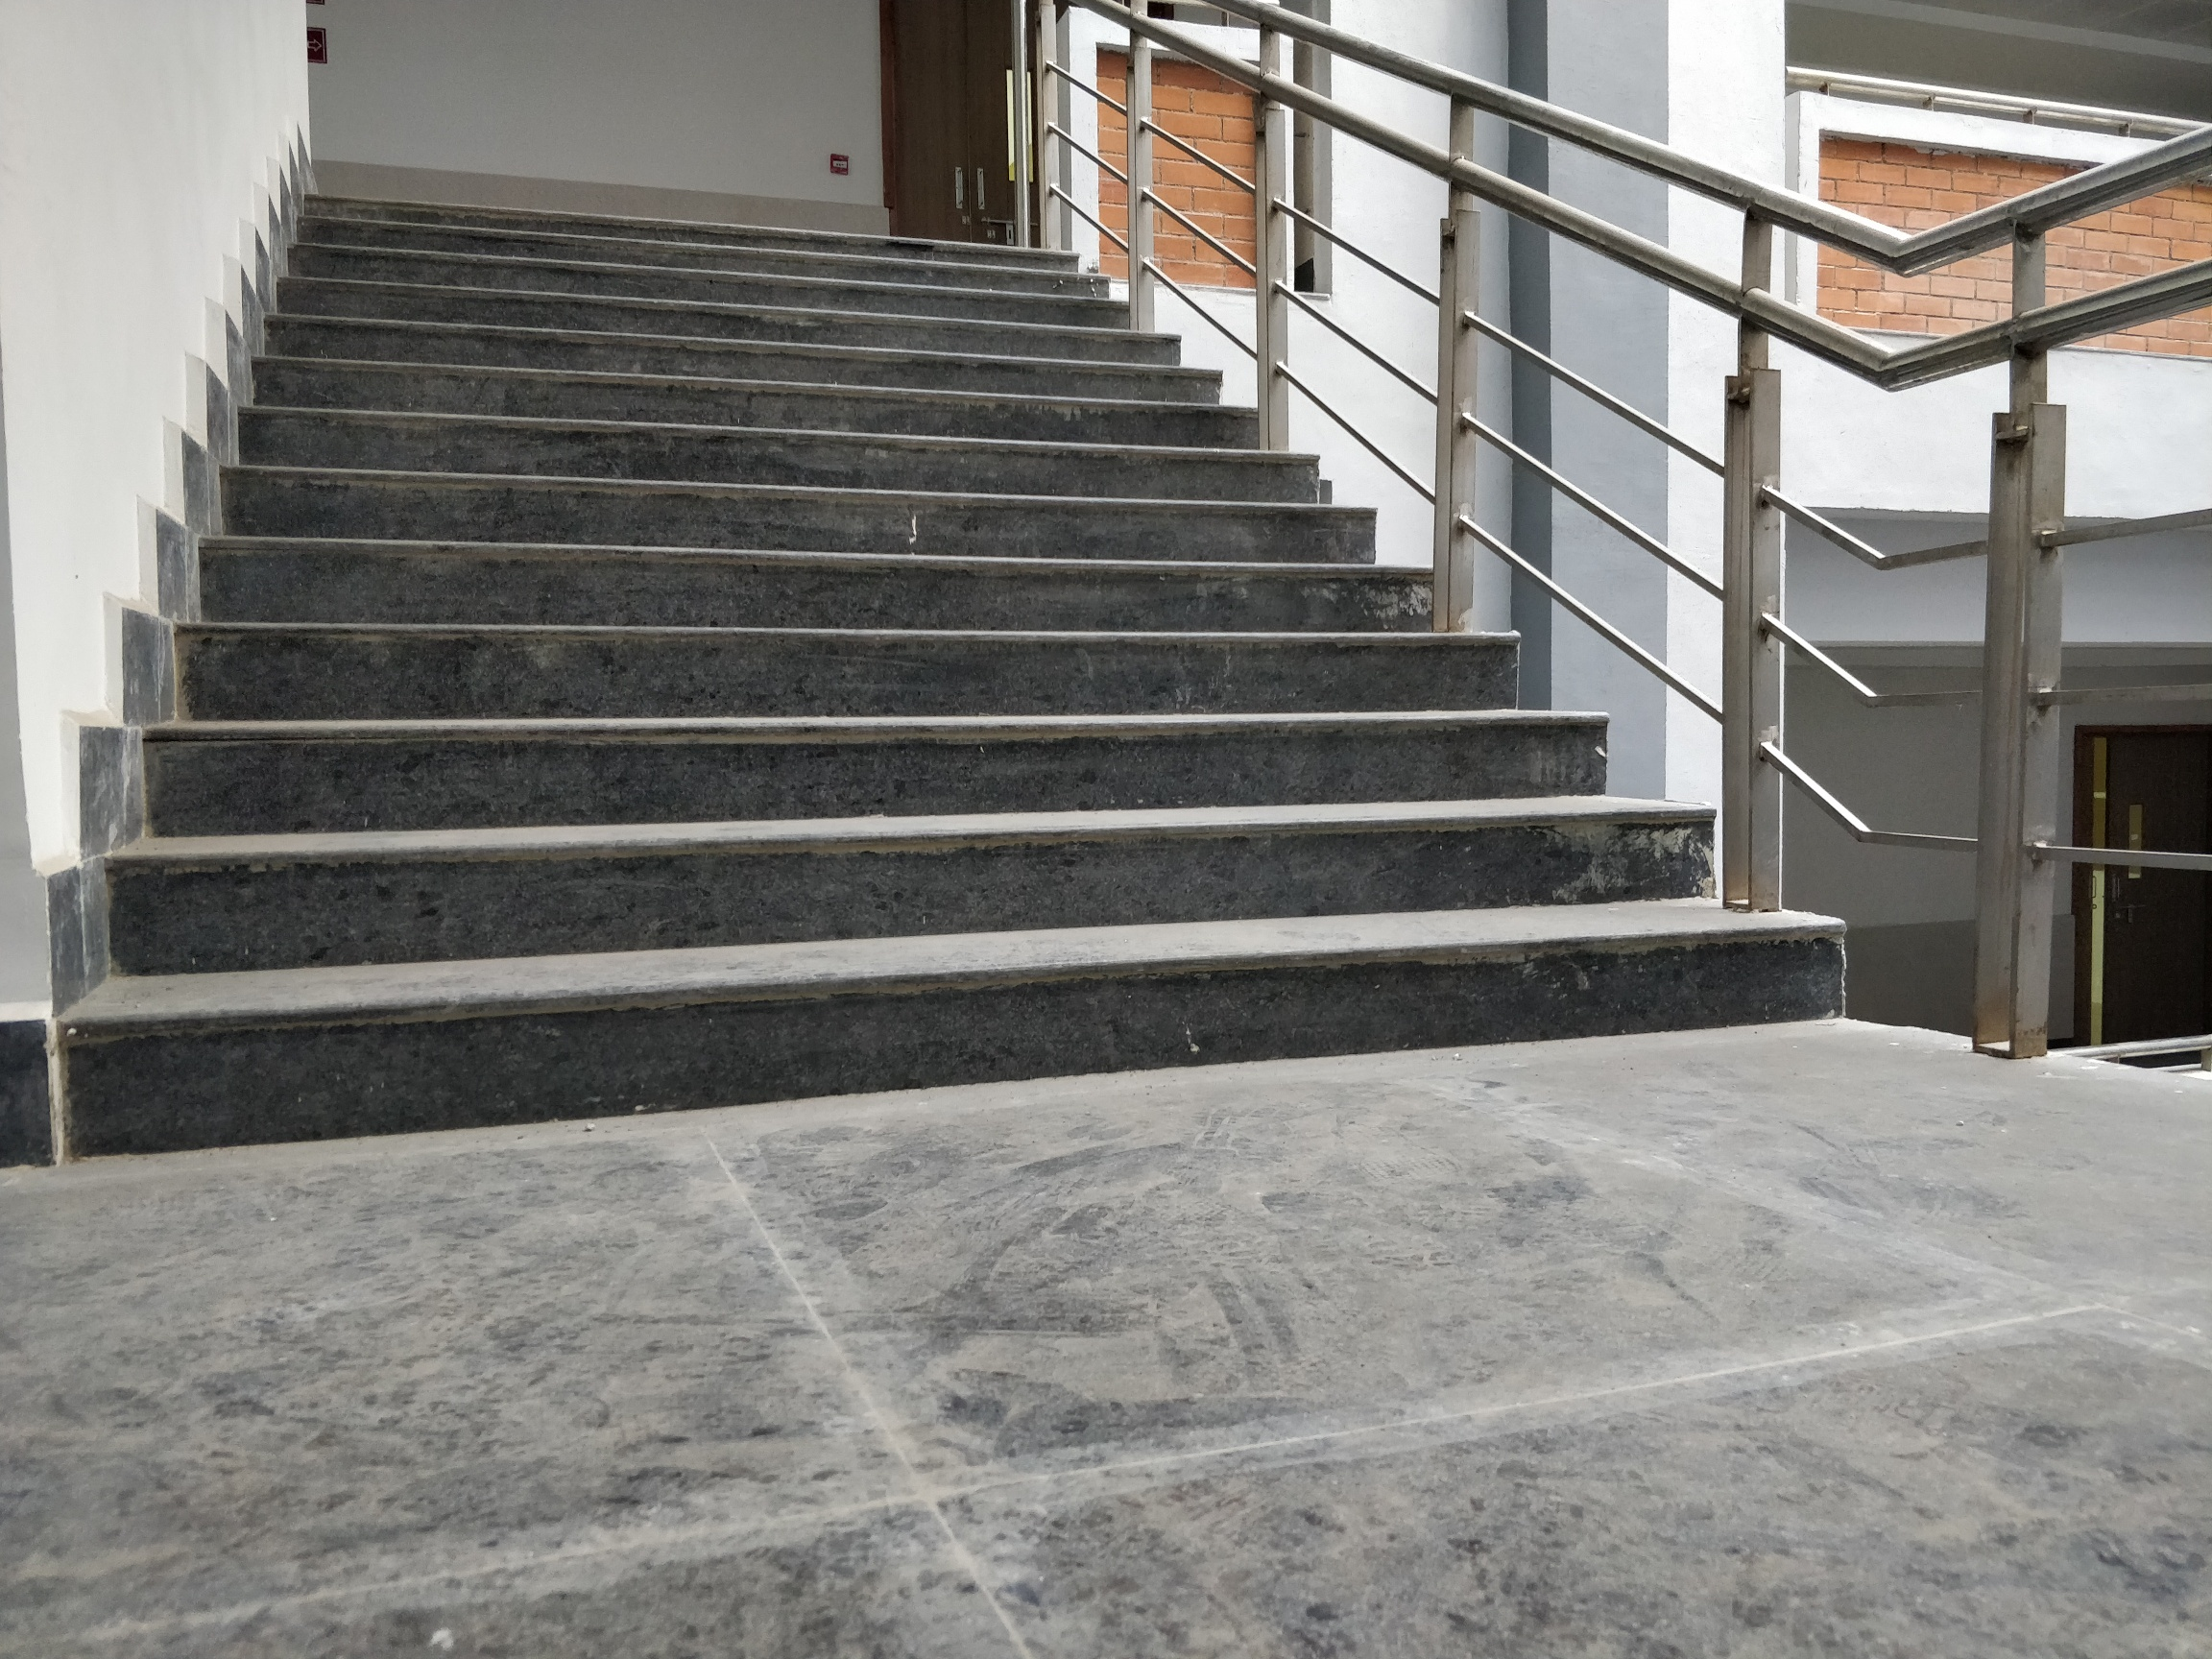stairs_up: (101, 173, 1705, 1094)
